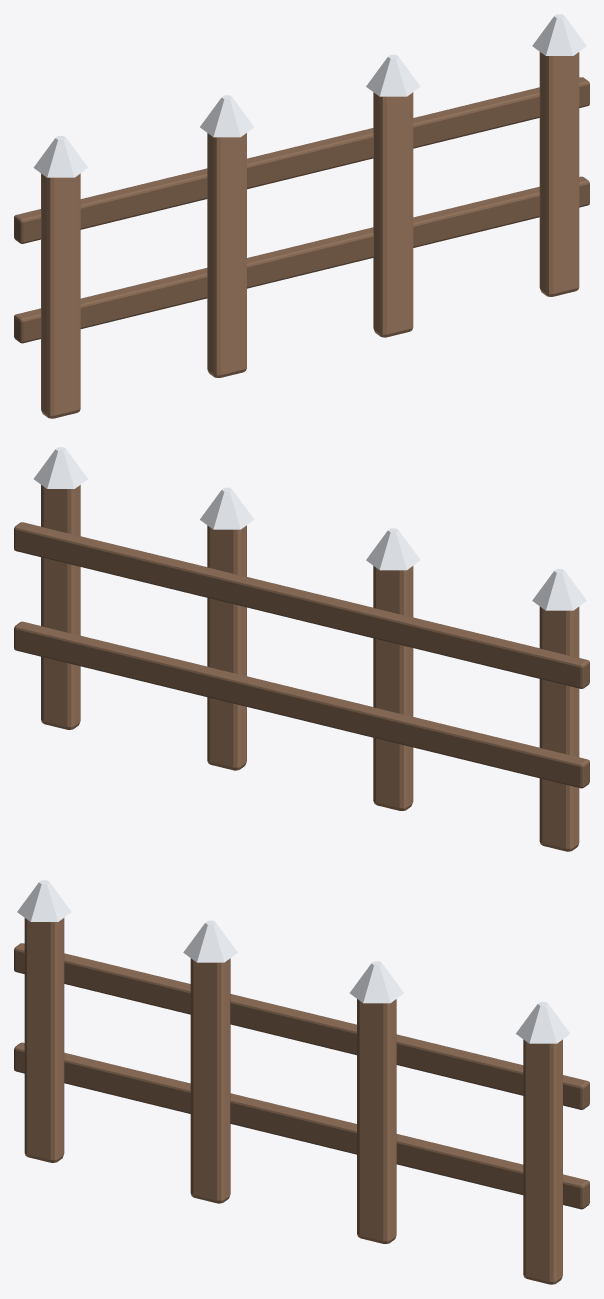
Rendered from fence.glb.
3 renders of one model, top to bottom at view 1: azimuth 30°, elevation 25°; view 2: azimuth 150°, elevation 25°; view 3: azimuth 330°, elevation 25°, orthographic.
Visible parts, largest first — view 1: fence_mesh; view 2: fence_mesh; view 3: fence_mesh.
Boxes of the visible parts, x1=… form: fence_mesh: x1=14, y1=14, x2=589, y2=418; fence_mesh: x1=14, y1=447, x2=589, y2=851; fence_mesh: x1=14, y1=880, x2=589, y2=1284.
Bounding box in the file's own units: 2.4 × 1.11 × 0.2.
